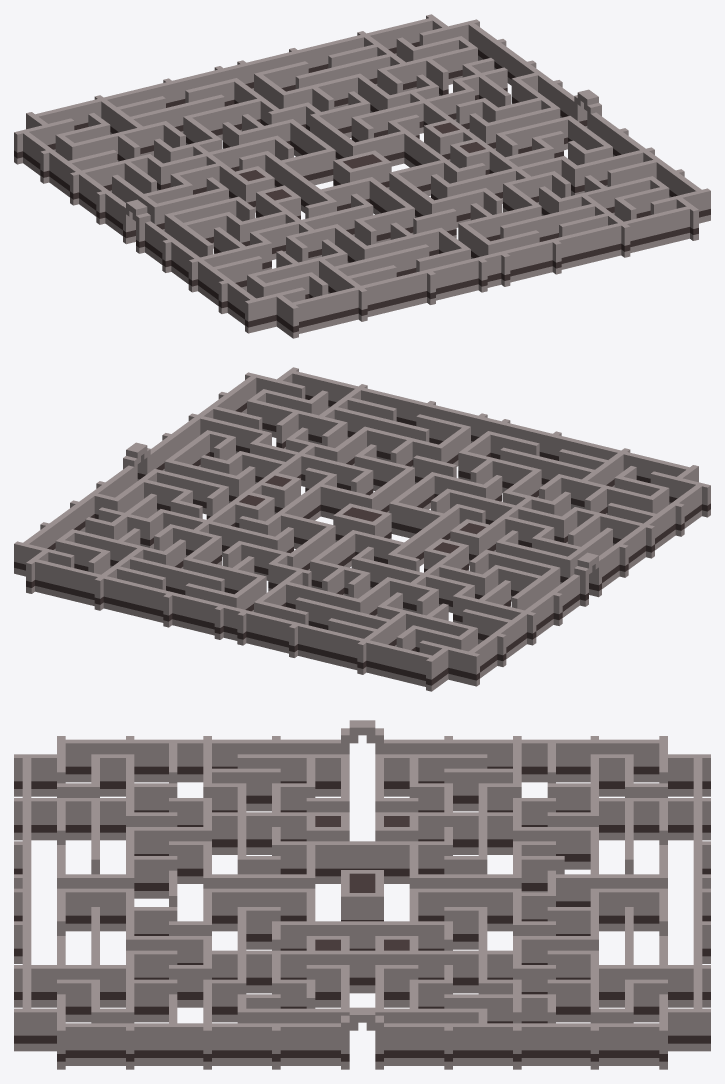
File: mecung_fix (1).fbx
3 renders of one model, top to bottom at view 1: azimuth 30°, elevation 25°; view 2: azimuth 150°, elevation 25°; view 3: azimuth 270°, elevation 25°, orthographic. The views are drawn at different scales.
Visible parts, largest first — view 1: maze; view 2: maze; view 3: maze.
Part boxes in pixels (box(x1,y1,x2,y2)): maze: box(14, 14, 710, 338); maze: box(14, 367, 710, 691); maze: box(14, 720, 710, 1069).
Bounding box in the file's own units: 8100 × 700 × 8100.
Materials: 1 (1 with a texture image).
